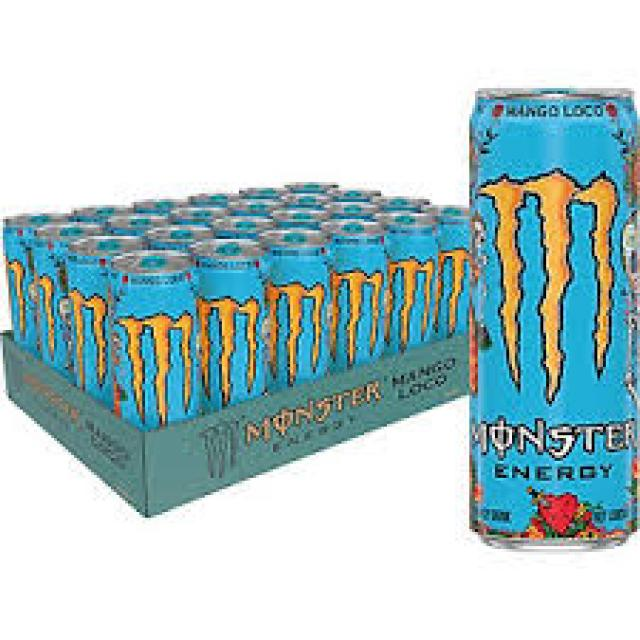Cans: (452, 62, 640, 560)
